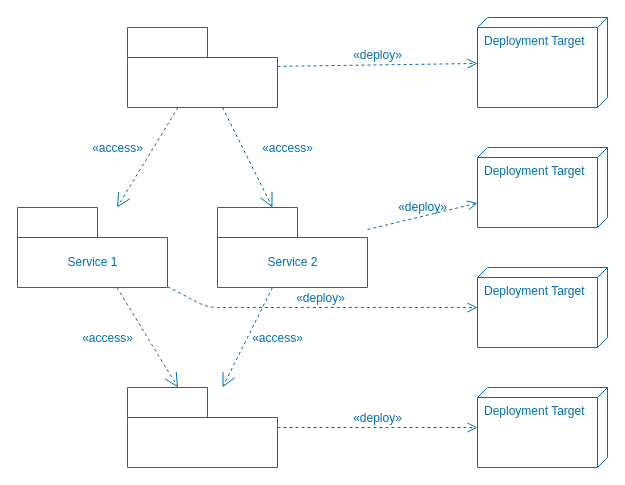
The diagram is 625 pixels wide and 485 high, and some of its shapes have lost their labels. Here are the shapes that lost their labels. From the top down, the centre of each, then its label:
the point at 202,67: User Interface
the point at 202,427: Database
